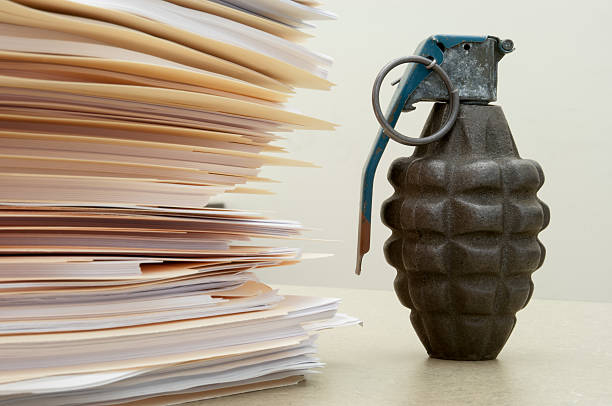e1: (352, 29, 552, 364)
